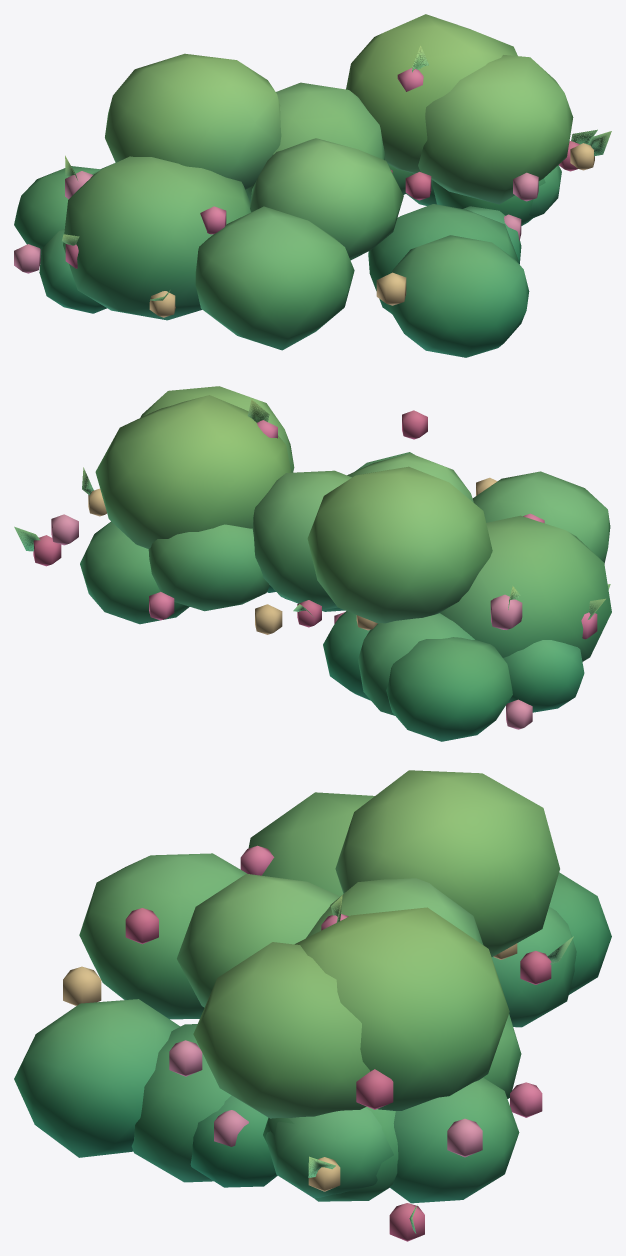
File: verdant_bush_berry_a.glb
3 renders of one model, top to bottom at view 1: azimuth 30°, elevation 25°; view 2: azimuth 150°, elevation 25°; view 3: azimuth 270°, elevation 25°, orthographic. The views are drawn at different scales.
Parts seen in each view (by area): view 1: verdant_bush_berry_a; view 2: verdant_bush_berry_a; view 3: verdant_bush_berry_a.
Boxes of the visible parts, x1,y1,x2,y2 form: verdant_bush_berry_a: (14,14,611,357); verdant_bush_berry_a: (14,386,611,741); verdant_bush_berry_a: (14,770,611,1241).
Bounding box in the file's own units: 3.25 × 1.32 × 2.38.
